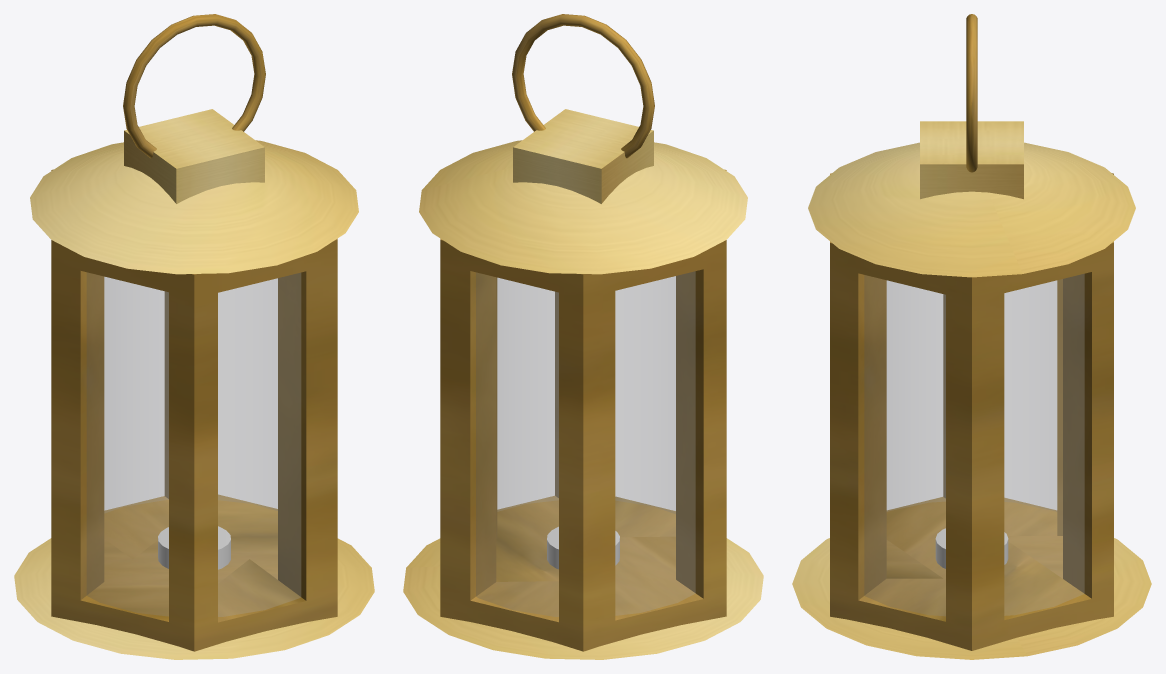
File: old lamp.fbx
3 views of the same model, side by side, from view 1: azimuth 30°, elevation 25°; view 2: azimuth 150°, elevation 25°; view 3: azimuth 270°, elevation 25° (orthographic).
Parts seen in each view (by area): view 1: case1, glass, top1, base, top_hook, ring, candle; view 2: case1, glass, top1, base, top_hook, ring, candle; view 3: case1, glass, top1, base, top_hook, ring.
Boxes of the visible parts, x1,y1,x2,y2 form: case1: (51, 169, 337, 651); glass: (87, 272, 300, 616); top1: (30, 140, 358, 274); base: (14, 538, 374, 659); top_hook: (124, 109, 264, 203); ring: (123, 14, 265, 158); candle: (158, 526, 230, 569); case1: (440, 169, 726, 651); glass: (476, 271, 695, 616); top1: (419, 140, 747, 274); base: (403, 538, 763, 659); top_hook: (513, 109, 653, 203); ring: (512, 14, 654, 158); candle: (547, 526, 619, 569); case1: (830, 173, 1113, 650); glass: (864, 274, 1084, 615); top1: (808, 142, 1135, 277); base: (792, 538, 1151, 659); top_hook: (920, 121, 1023, 199); ring: (966, 14, 977, 172).
Bounding box in the file's own units: 9.73 × 16.81 × 9.73.
